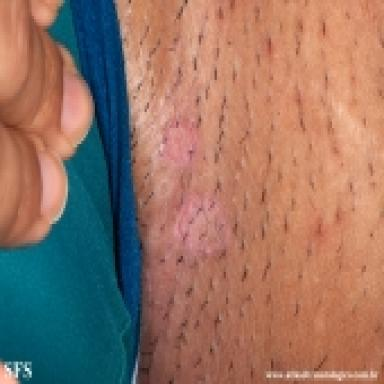Porokeratosis: (177, 199, 233, 256), (164, 116, 199, 164)
